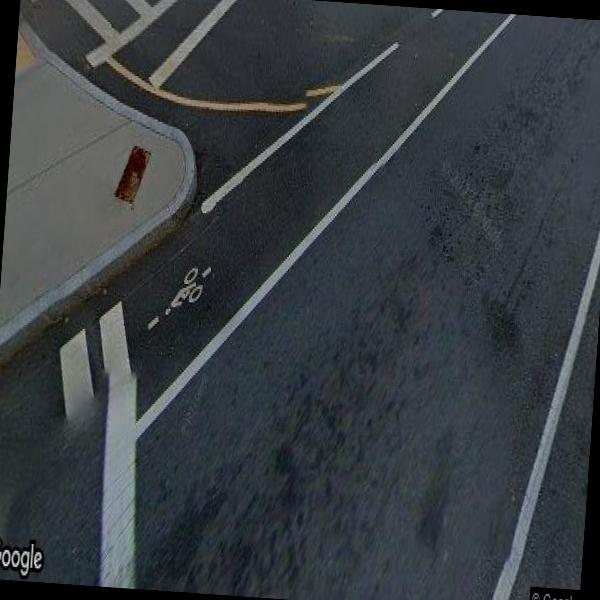manhole: (104, 130, 154, 224)
